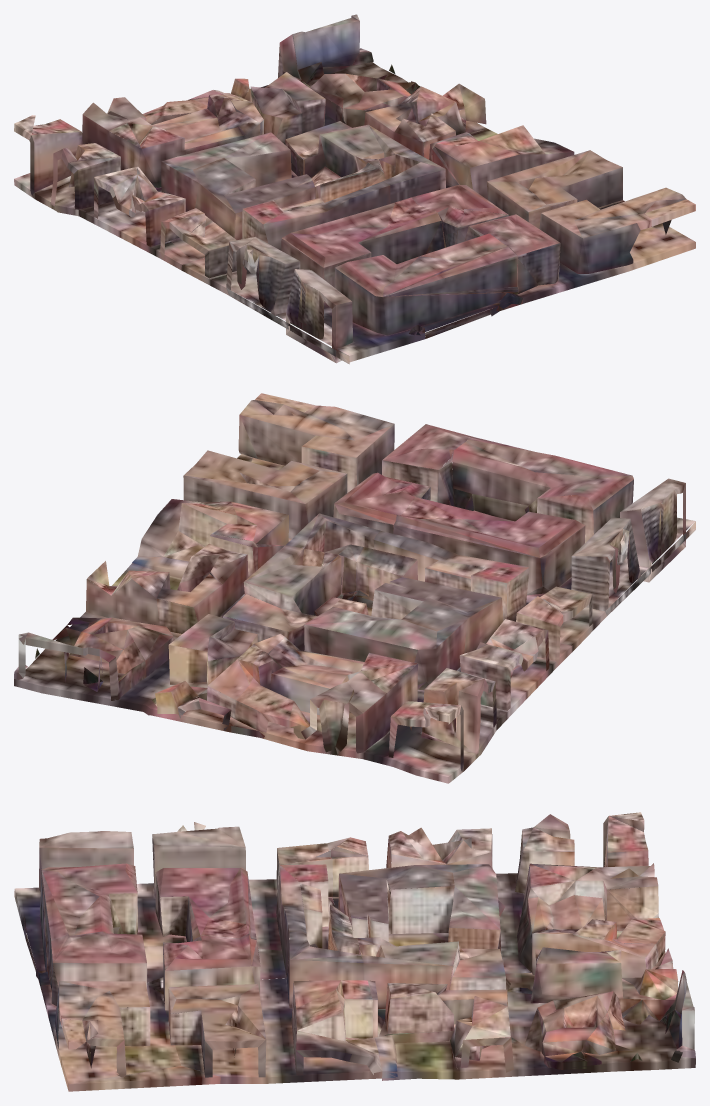
3 views of the same model, one above another, from view 1: azimuth 30°, elevation 25°; view 2: azimuth 150°, elevation 25°; view 3: azimuth 270°, elevation 25° (orthographic). The views are drawn at different scales.
Parts seen in each view (by area): view 1: Mesh_0; view 2: Mesh_0; view 3: Mesh_0.
Part boxes in pixels (left/top/right/bottom): Mesh_0: left=14, top=14, right=695, bottom=364; Mesh_0: left=14, top=393, right=695, bottom=783; Mesh_0: left=14, top=812, right=695, bottom=1091.
Bounding box in the file's own units: 266 × 44.71 × 330.
Materials: 2 (2 with a texture image).
